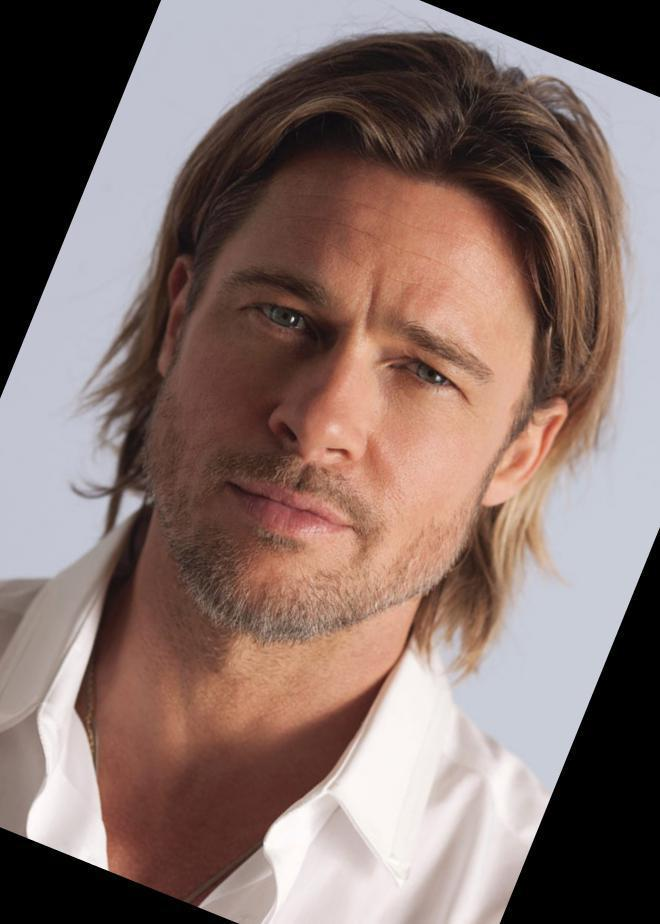Sober: (181, 152, 537, 615)
